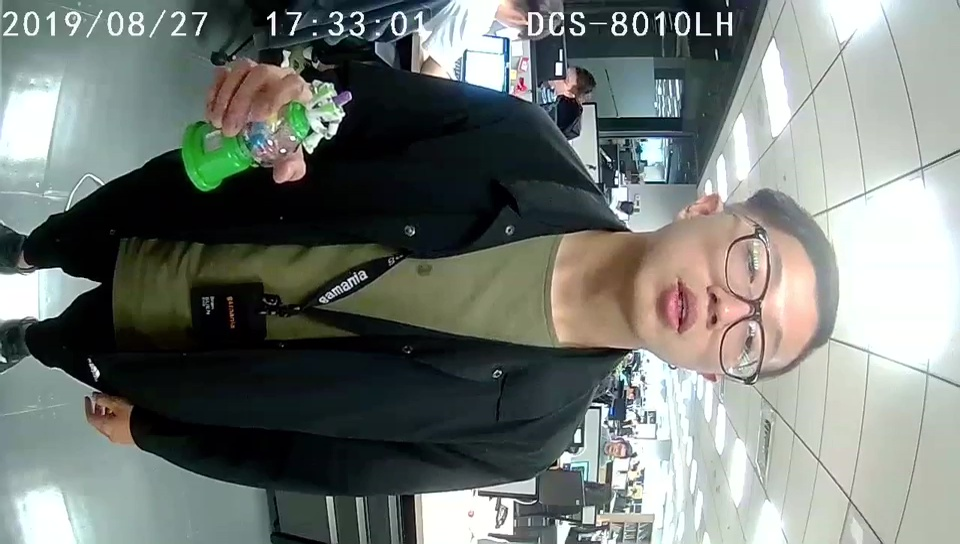buzz: (180, 76, 353, 194)
